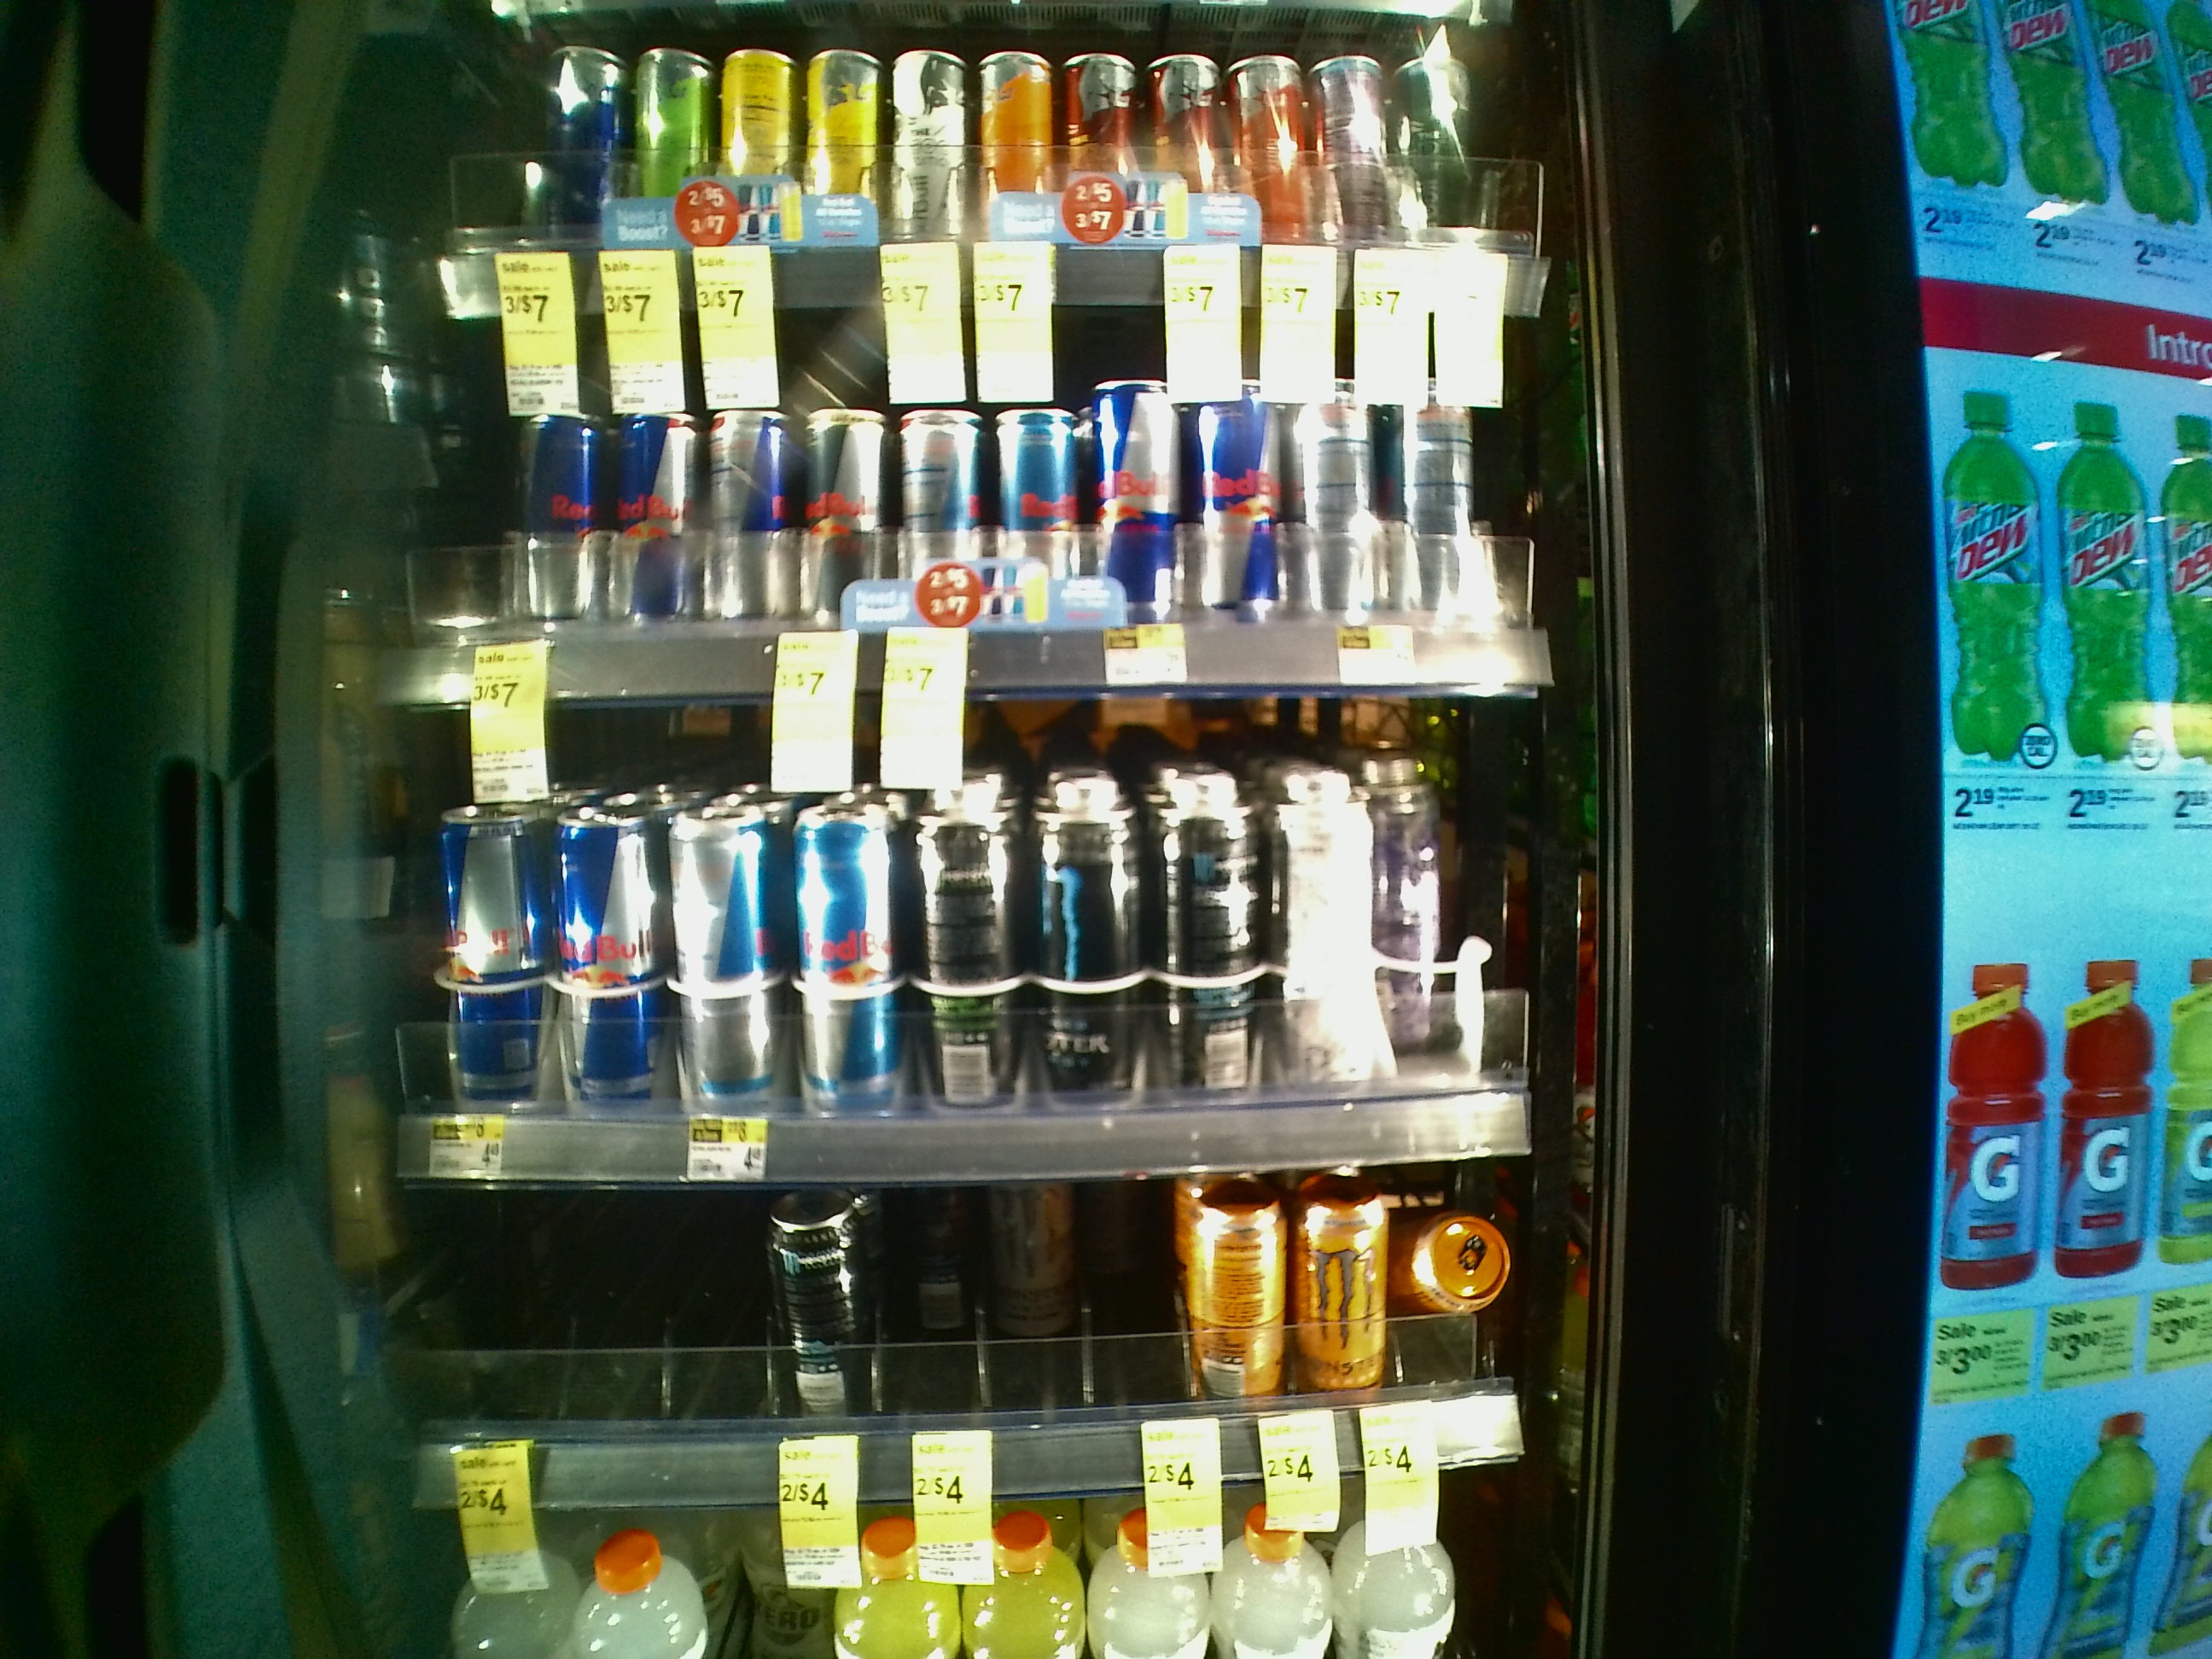shelf: (385, 709, 1653, 1185), (420, 312, 1632, 702)
